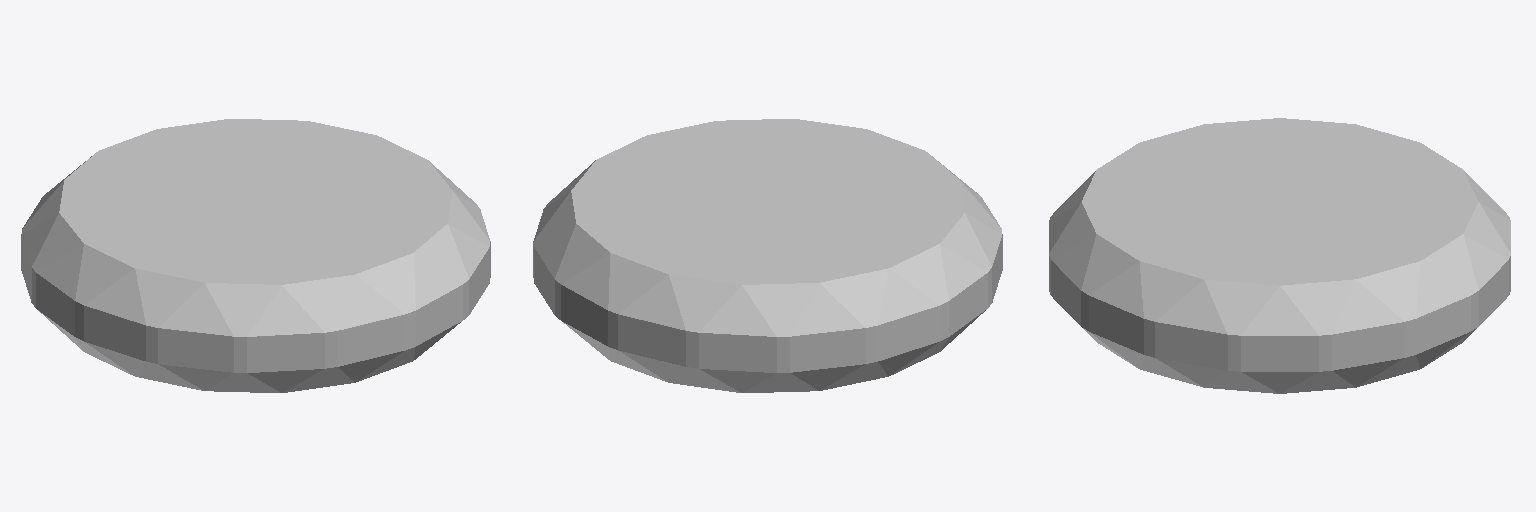
Rendered from puck.obj.
3 renders of one model, left to right at view 1: azimuth 30°, elevation 25°; view 2: azimuth 150°, elevation 25°; view 3: azimuth 270°, elevation 25°, orthographic.
Visible parts, largest first — view 1: Cylinder; view 2: Cylinder; view 3: Cylinder.
Boxes of the visible parts, box(x1,y1,x2,y2) form: Cylinder: box(21, 119, 490, 392); Cylinder: box(533, 119, 1002, 392); Cylinder: box(1049, 118, 1510, 393).
Bounding box in the file's own units: 2.9 × 0.75 × 2.9.